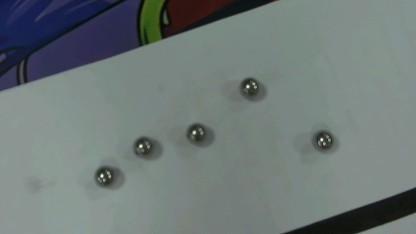ironball: (230, 68, 264, 99), (306, 125, 334, 154), (183, 115, 206, 147), (129, 135, 155, 157), (91, 162, 115, 185)
